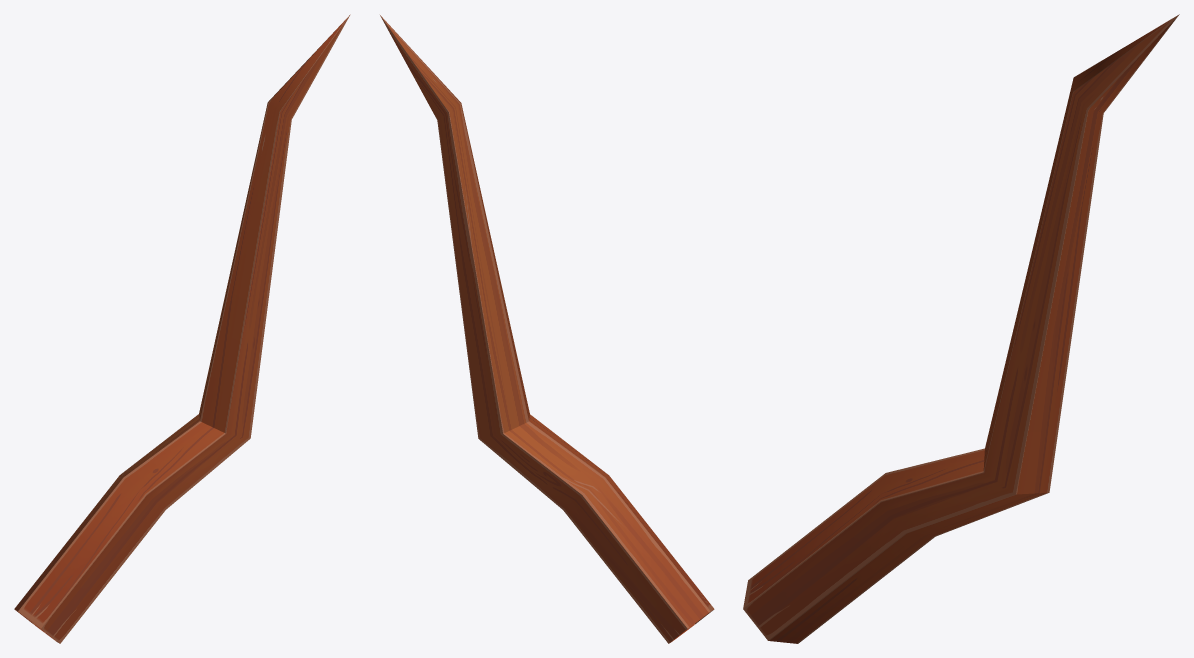
Rendered from flag_baton.fbx.
3 views of the same model, side by side, from view 1: azimuth 30°, elevation 25°; view 2: azimuth 150°, elevation 25°; view 3: azimuth 330°, elevation 25° (orthographic). The views are drawn at different scales.
Parts seen in each view (by area): view 1: pCylinder7; view 2: pCylinder7; view 3: pCylinder7.
Part boxes in pixels (left/top/right/bottom): pCylinder7: left=14, top=14, right=350, bottom=643; pCylinder7: left=380, top=15, right=714, bottom=643; pCylinder7: left=743, top=14, right=1179, bottom=643.
Bounding box in the file's own units: 6.17 × 9.87 × 0.866.
